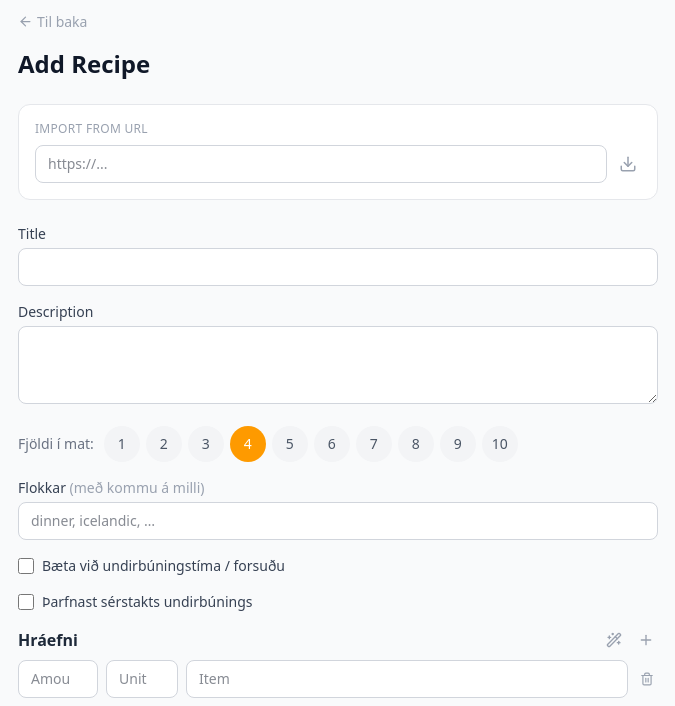
AddRecipeForm › shows prep/cook time fields when checkbox is checked
The image size is (675, 706).
Click the checkbox labelled "Bæta við undirbúningstíma / forsuðu".
click(26, 566)  # box [18, 558, 34, 574]
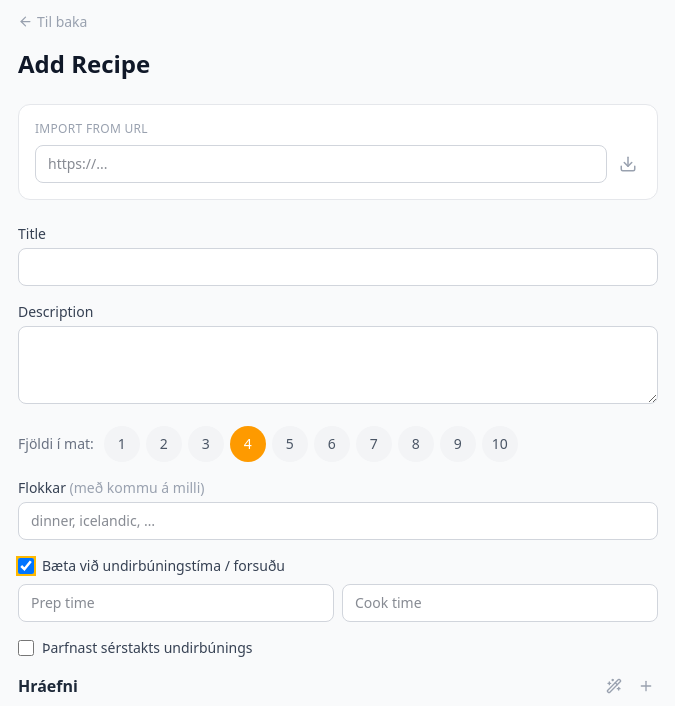
Now the field with placeholder "Prep time" is shown, box [18, 584, 334, 622]
Now the field with placeholder "Cook time" is shown, box [342, 584, 658, 622]
